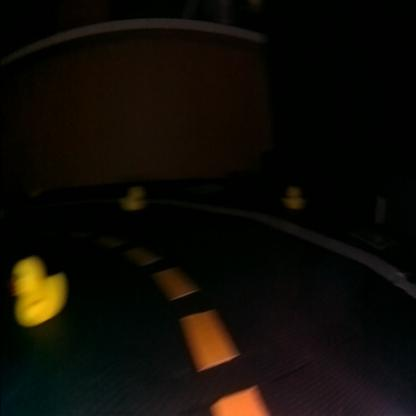Duckie: (10, 254, 68, 327), (121, 184, 146, 210), (284, 184, 304, 208)
